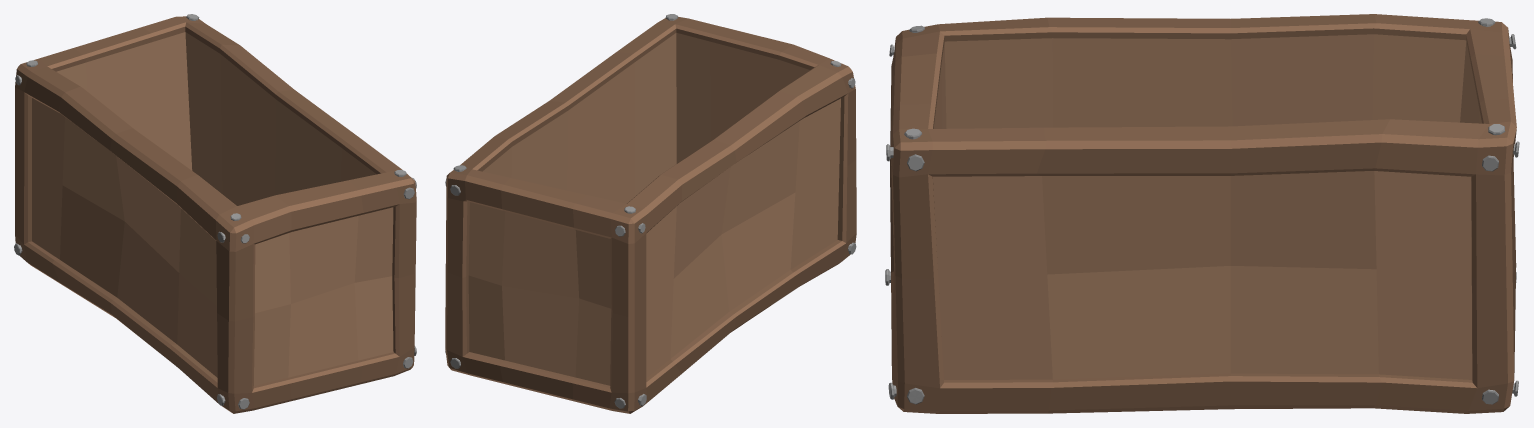
Rendered from Crate2_Open.fbx.
3 renders of one model, left to right at view 1: azimuth 30°, elevation 25°; view 2: azimuth 150°, elevation 25°; view 3: azimuth 270°, elevation 25°, orthographic. The views are drawn at different scales.
Visible parts, largest first — view 1: Crate2_Open; view 2: Crate2_Open; view 3: Crate2_Open.
Part boxes in pixels (box(x1,y1,x2,y2)): Crate2_Open: box(14, 14, 416, 413); Crate2_Open: box(445, 14, 856, 413); Crate2_Open: box(885, 14, 1519, 413).
Bounding box in the file's own units: 71.1 × 70.88 × 142.
